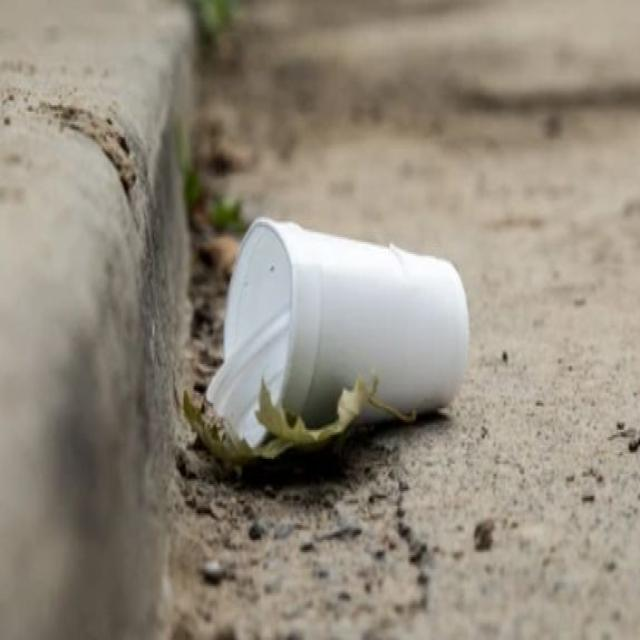general: (196, 214, 471, 461)
